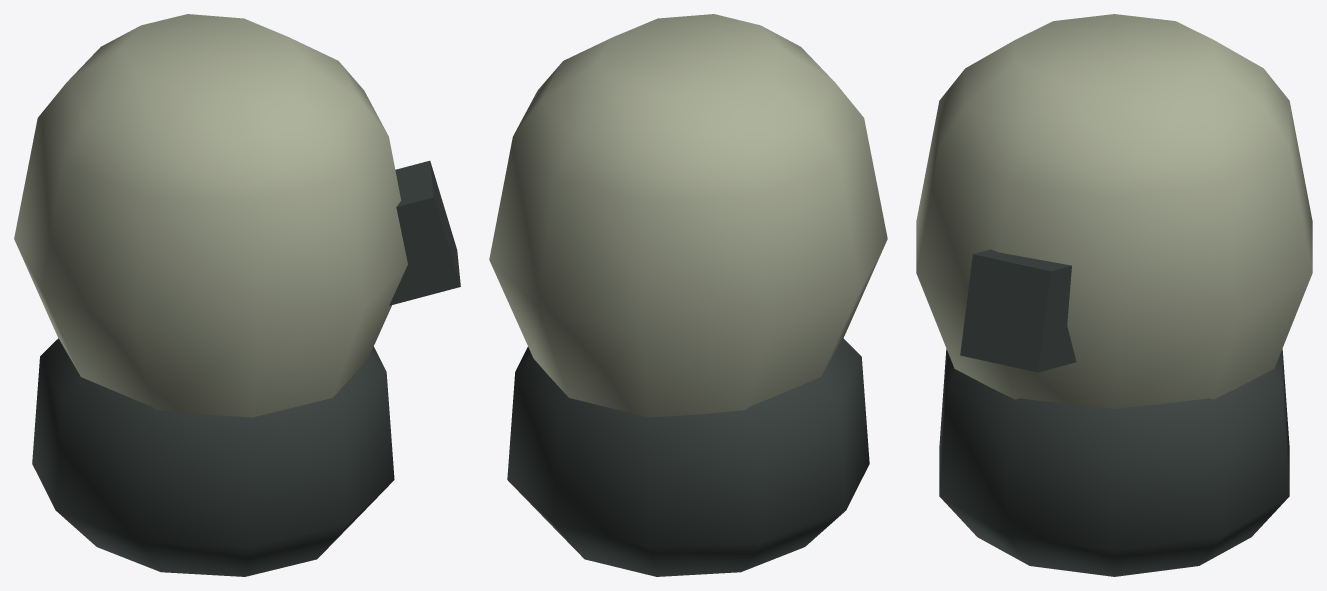
Rendered from pikeman_leg_left_front.obj.
The picture shows the model from 3 angles, left to right: view 1: azimuth 30°, elevation 25°; view 2: azimuth 150°, elevation 25°; view 3: azimuth 270°, elevation 25°; orthographic projection.
Visible parts, largest first — view 1: rigid_shell_003, rigid_shell_001, rigid_shell_000; view 2: rigid_shell_003, rigid_shell_001; view 3: rigid_shell_003, rigid_shell_001, rigid_shell_000.
Part boxes in pixels (x1,y1,x2,y2): rigid_shell_003: [14, 14, 407, 417]; rigid_shell_001: [32, 338, 394, 576]; rigid_shell_000: [389, 160, 460, 305]; rigid_shell_003: [489, 14, 887, 417]; rigid_shell_001: [507, 338, 869, 576]; rigid_shell_003: [916, 14, 1312, 408]; rigid_shell_001: [939, 349, 1289, 576]; rigid_shell_000: [960, 249, 1076, 372].
Size of the model in its own units: 0.5506 by 0.645 by 0.4945.
